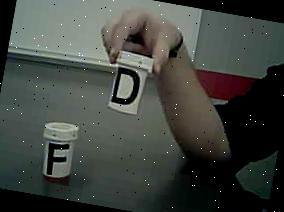Bottle D: (105, 46, 156, 121)
Bottle F: (35, 114, 90, 198)
